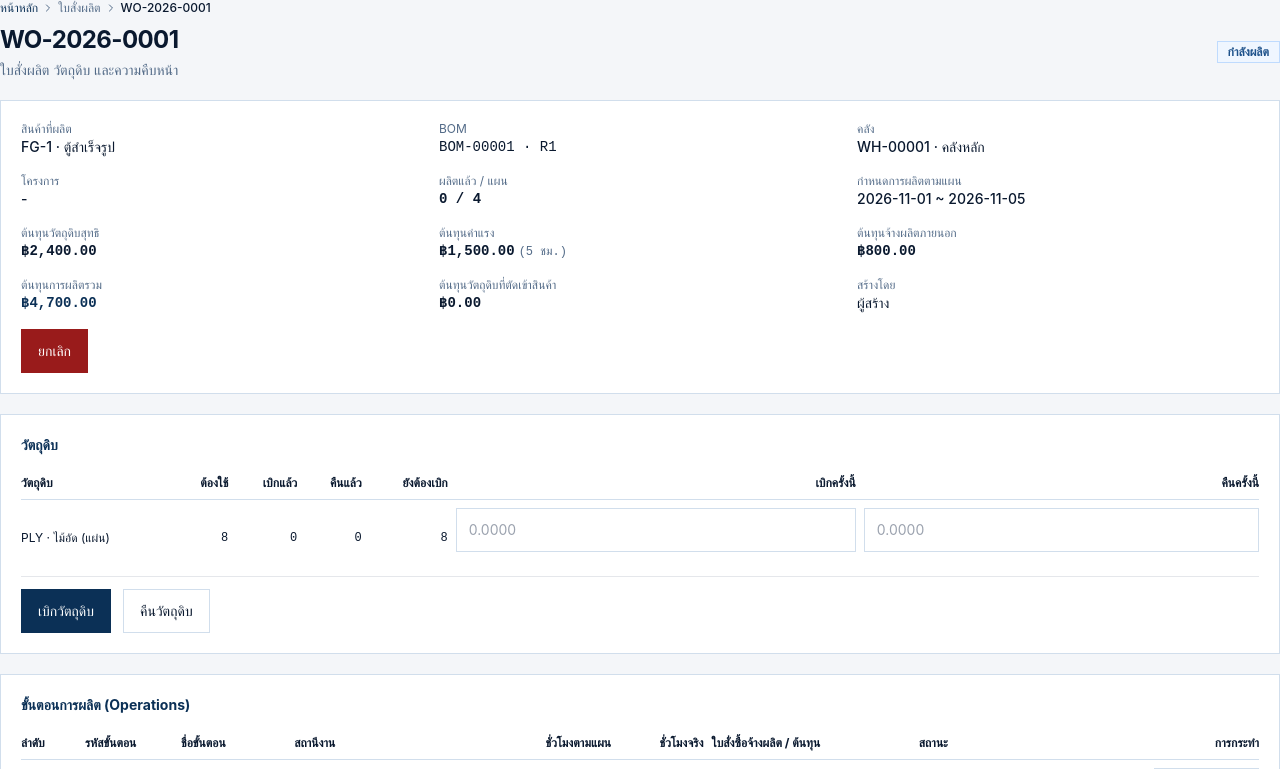
Test: WorkOrderDetail › shows the translated stock error instead of the raw message
In the 1st number field with placeholder "0.0000": (656, 530) x1=456 y1=508 x2=856 y2=552, type "3"
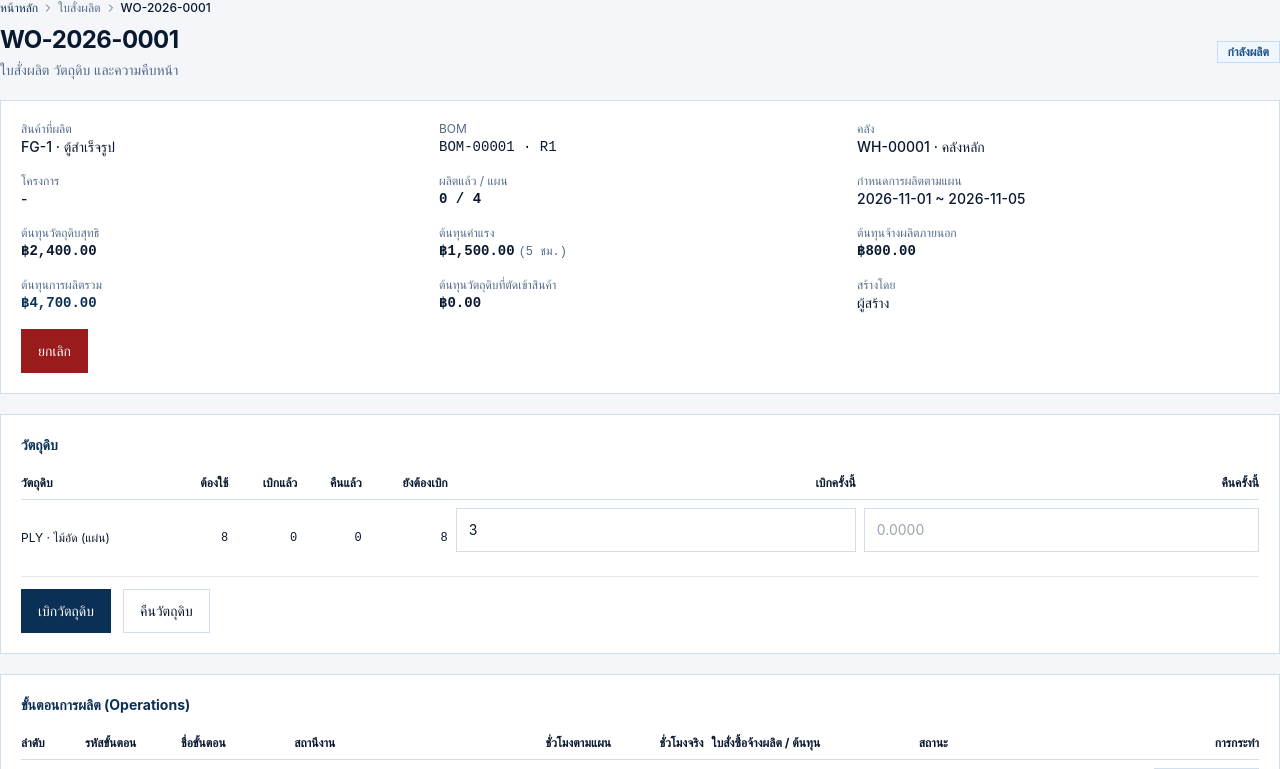
Click the button "เบิกวัตถุดิบ": (66, 611) x1=21 y1=589 x2=111 y2=633
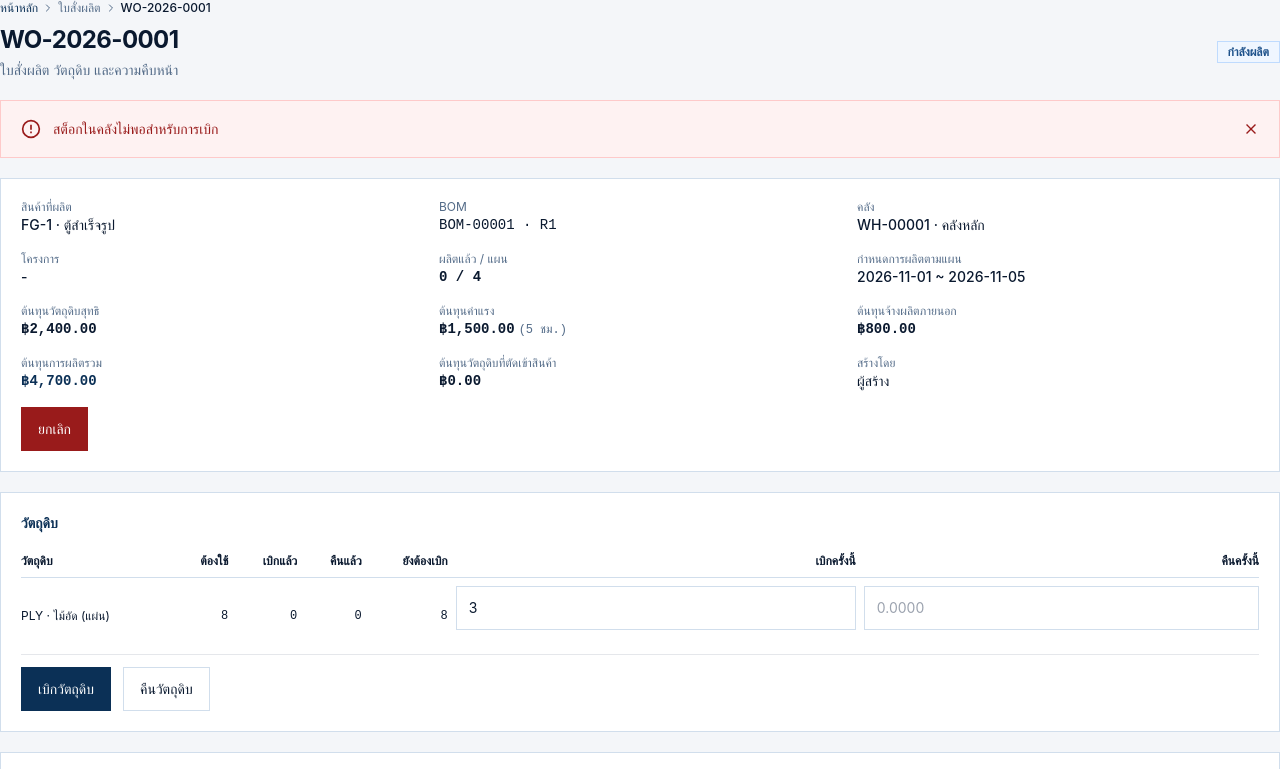
Expected: the text "สต็อกในคลังไม่พอสำหรับการเบิก" is shown, x1=53 y1=120 x2=218 y2=137
